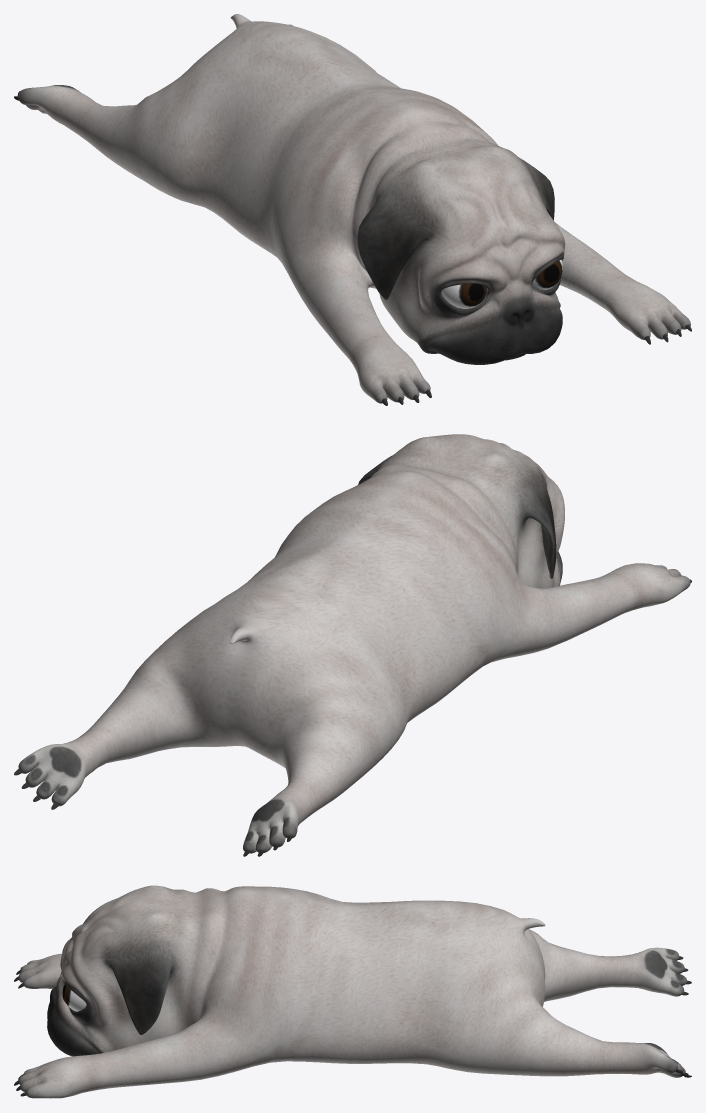
Rendered from tristeza.glb.
3 renders of one model, top to bottom at view 1: azimuth 30°, elevation 25°; view 2: azimuth 150°, elevation 25°; view 3: azimuth 270°, elevation 25°, orthographic. The views are drawn at different scales.
Parts seen in each view (by area): view 1: ZBrush_defualt_group, Group10041; view 2: ZBrush_defualt_group; view 3: ZBrush_defualt_group, Group10041.
Part boxes in pixels (x1,y1,x2,y2): ZBrush_defualt_group: (17,14,690,403); Group10041: (441,259,562,309); ZBrush_defualt_group: (18,434,690,853); ZBrush_defualt_group: (18,885,686,1098); Group10041: (62,984,86,1011).
Size of the model in its own units: 2.68 by 1.45 by 5.88.
Materials: 3 (2 with a texture image).
